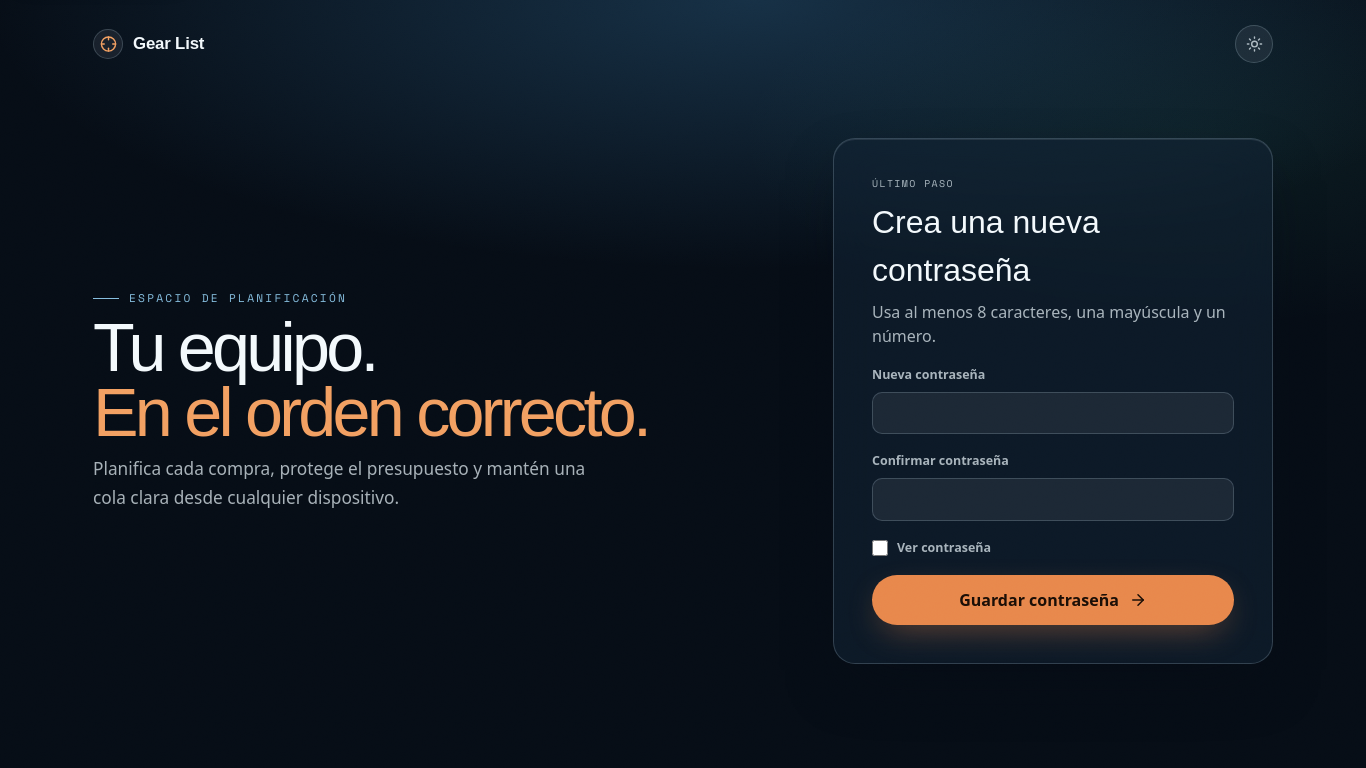
it: Recuperación de contraseña › envía las credenciales del fragmento y limpia el enlace al terminar
The image size is (1366, 768).
Step 1. Type "NuevaClave123" into the password field labelled "Nueva contraseña" → [1053, 413], box [872,392,1234,434]
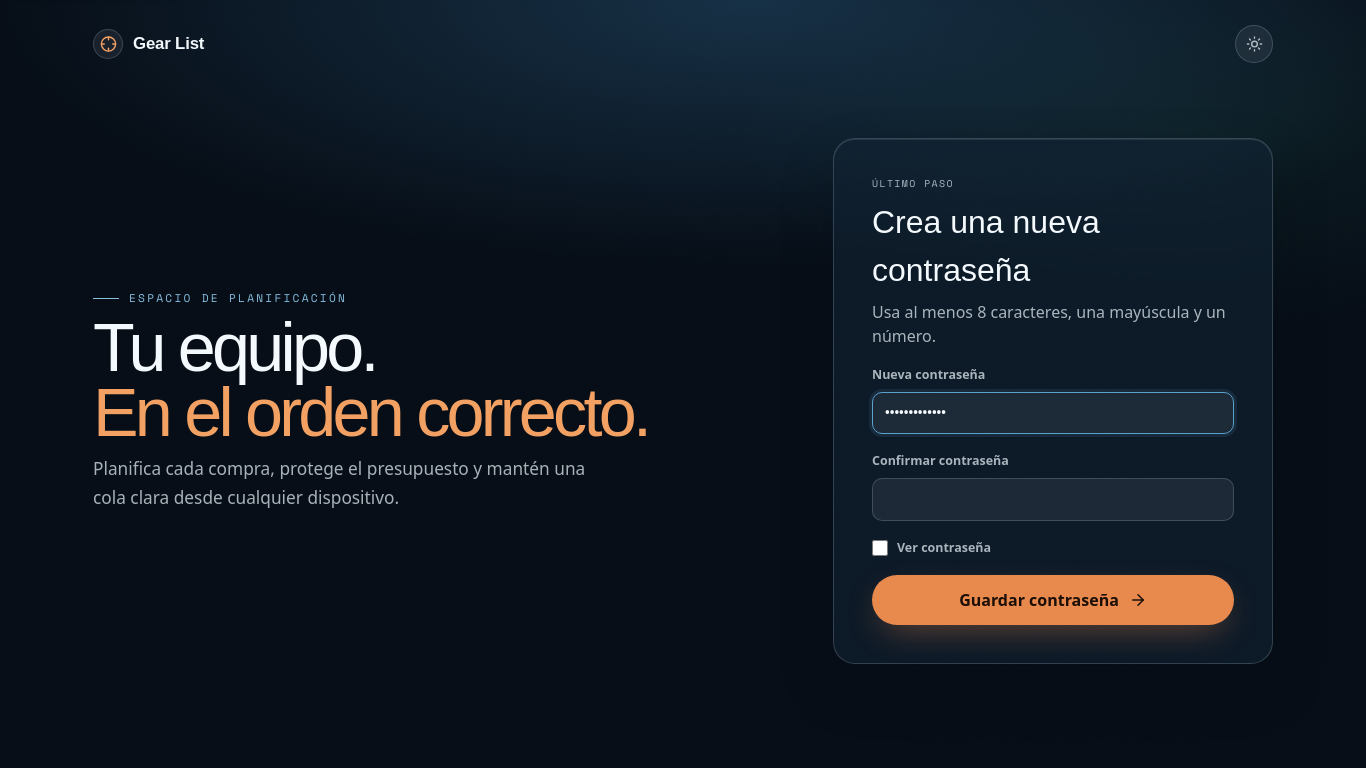
Step 2. Type "NuevaClave123" into the password field labelled "Confirmar contraseña" → [1053, 499], box [872,478,1234,521]
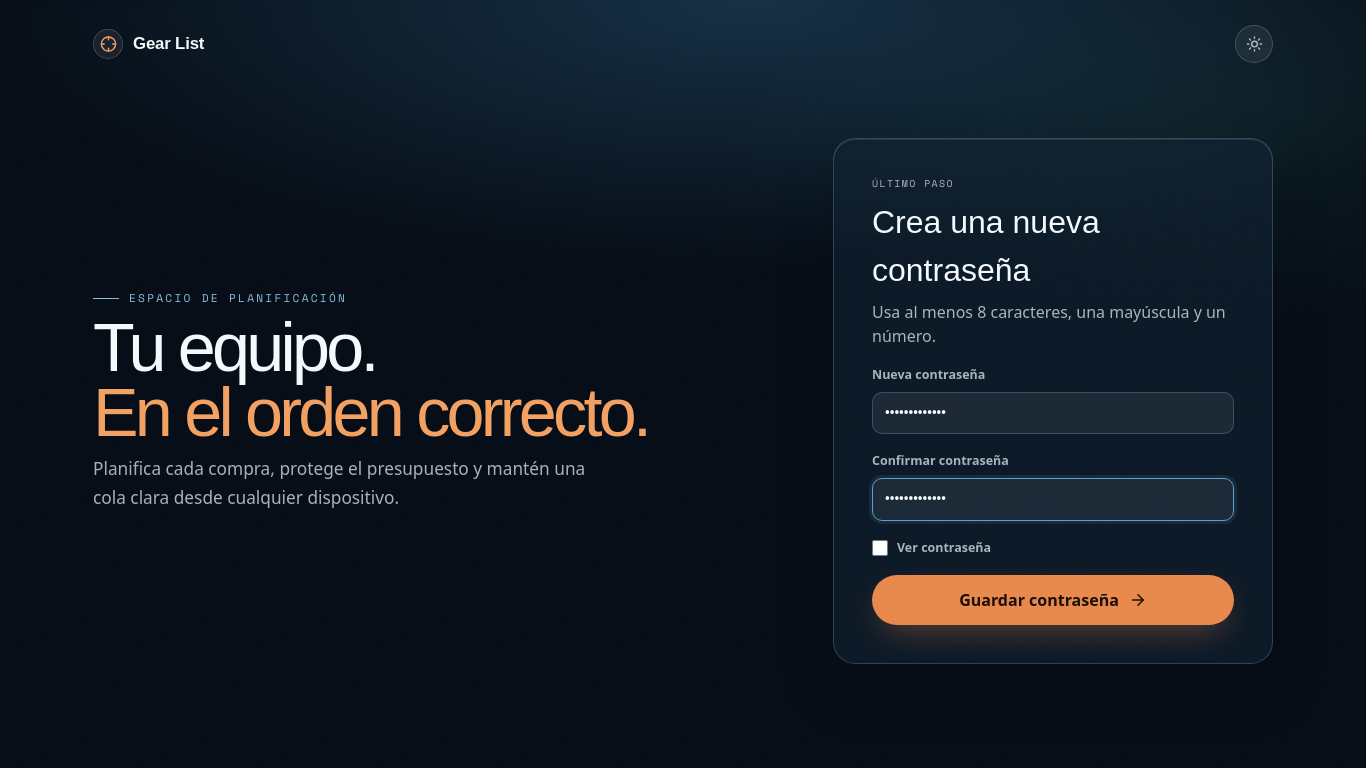
Step 3. Click the checkbox labelled "Ver contraseña" → [880, 548], box [872,540,888,556]
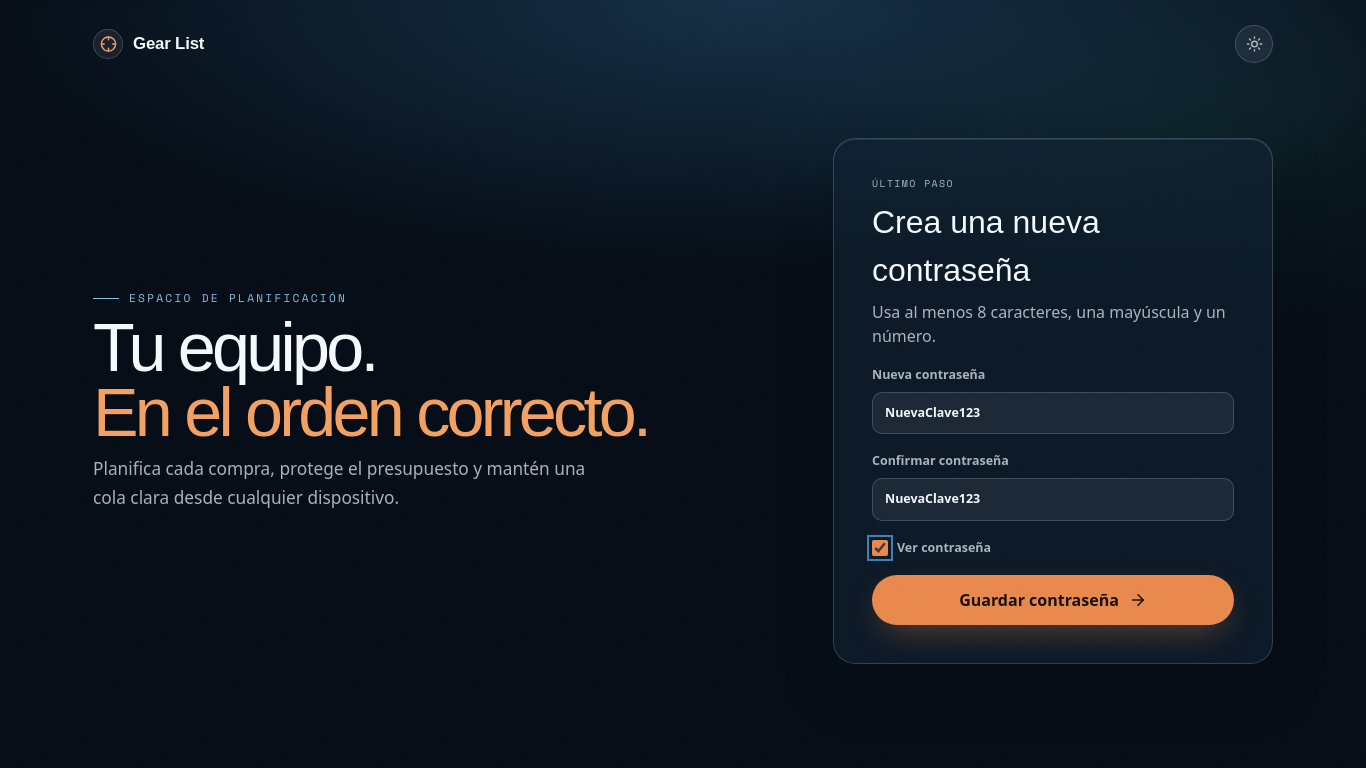
Result: the field labelled "Nueva contraseña" shows its text at [872,392,1234,434]
Result: the field labelled "Confirmar contraseña" shows its text at [872,478,1234,521]
Step 4. Click the button "Guardar contraseña" → [1053, 600], box [872,575,1234,625]
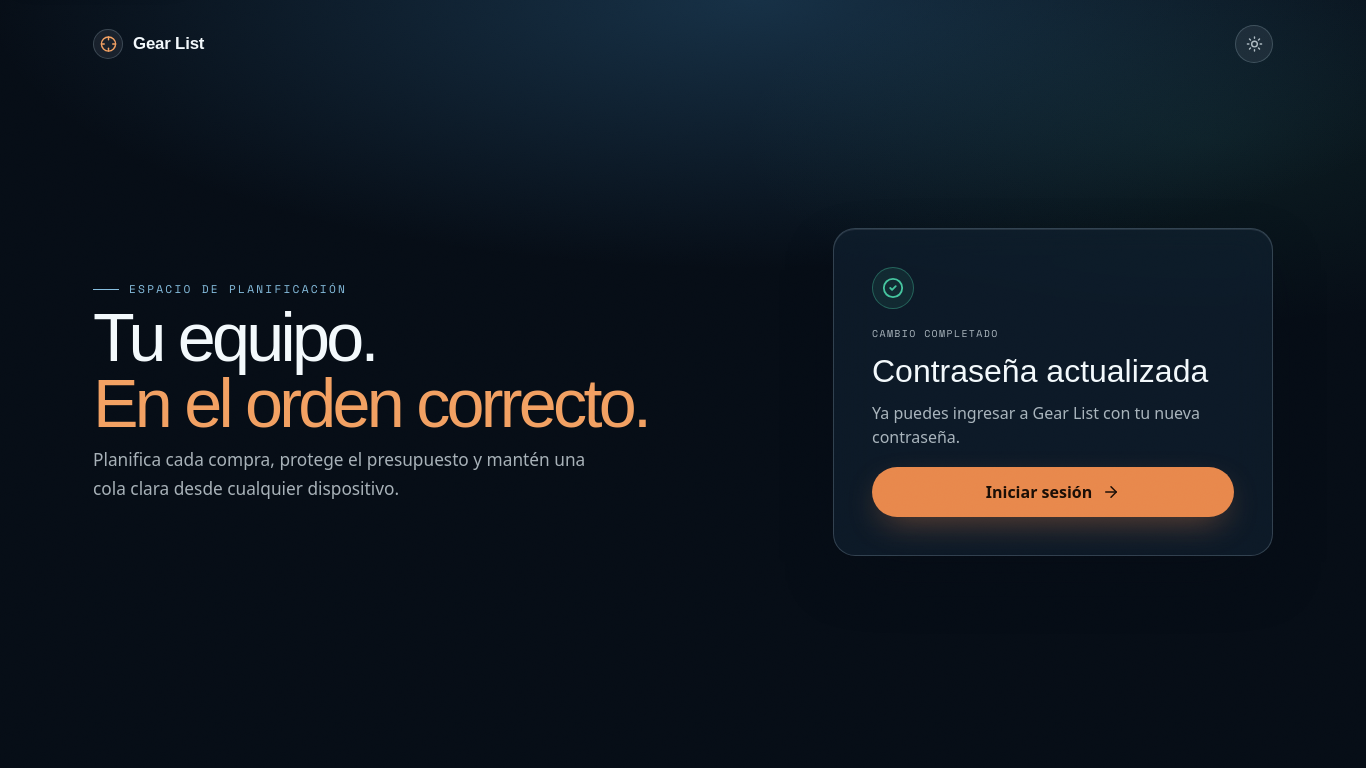
Result: the heading "Contraseña actualizada" is shown at [872,347,1234,395]
